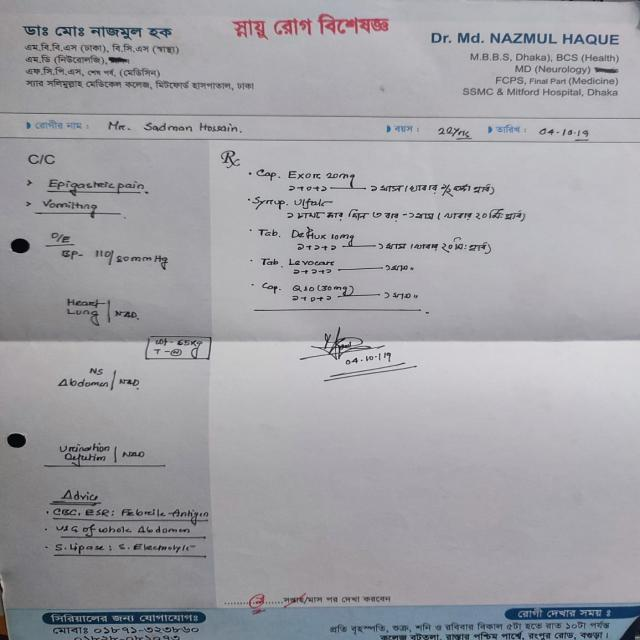Deflux: (288, 223, 328, 243)
Exor: (283, 166, 325, 183)
Levocar: (283, 256, 340, 270)
Q10: (288, 280, 321, 295)
Ulfate: (290, 196, 339, 211)
